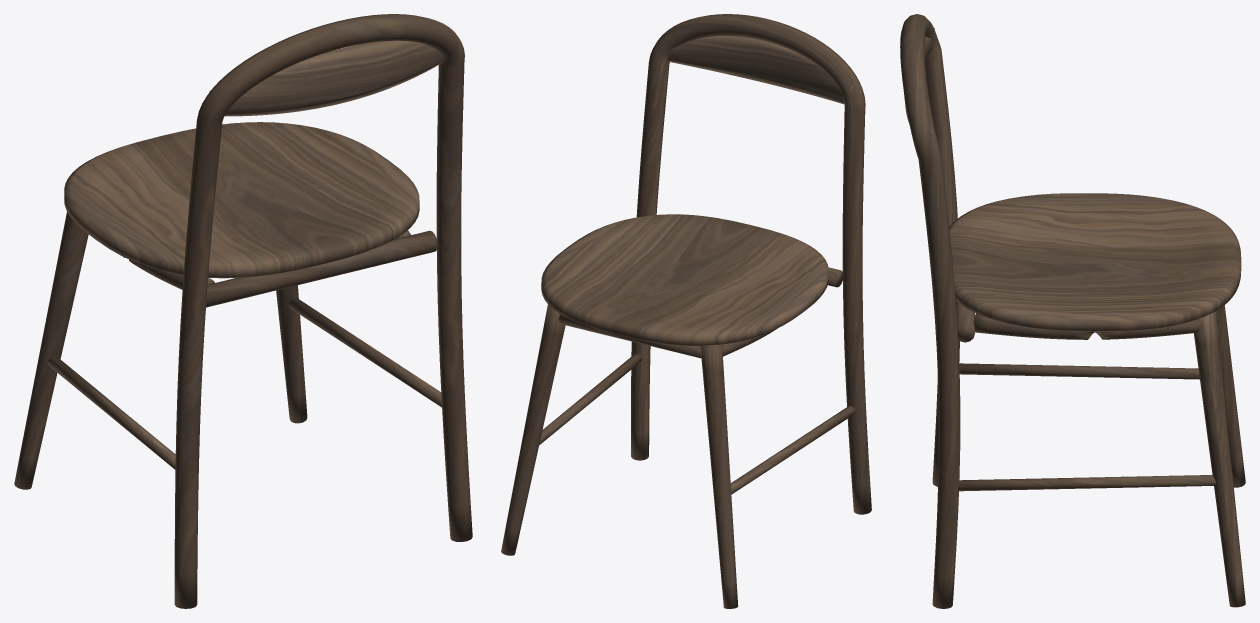
The model's file is mori_bentwood_chair.glb.
3 views of the same model, side by side, from view 1: azimuth 30°, elevation 25°; view 2: azimuth 150°, elevation 25°; view 3: azimuth 270°, elevation 25° (orthographic). The views are drawn at different scales.
Visible parts, largest first — view 1: Mori_Bentwood_Chair; view 2: Mori_Bentwood_Chair; view 3: Mori_Bentwood_Chair.
Part boxes in pixels (x1,y1,x2,y2): Mori_Bentwood_Chair: (14, 14, 472, 608); Mori_Bentwood_Chair: (501, 14, 871, 608); Mori_Bentwood_Chair: (900, 14, 1245, 608).
Size of the model in its own units: 0.439 by 0.8 by 0.4919.
1 material, 1 textured.
